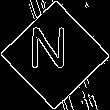N_S: (35, 29, 75, 81)
